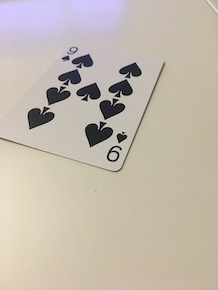NineOfSpades: (1, 35, 170, 180)
